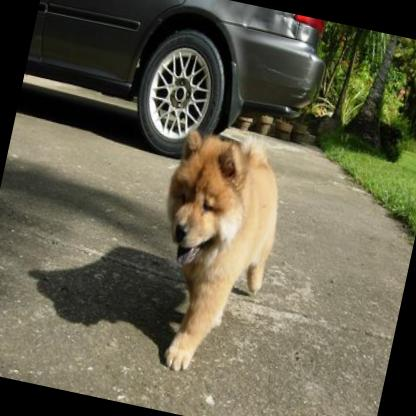chow: (132, 125, 291, 386)
